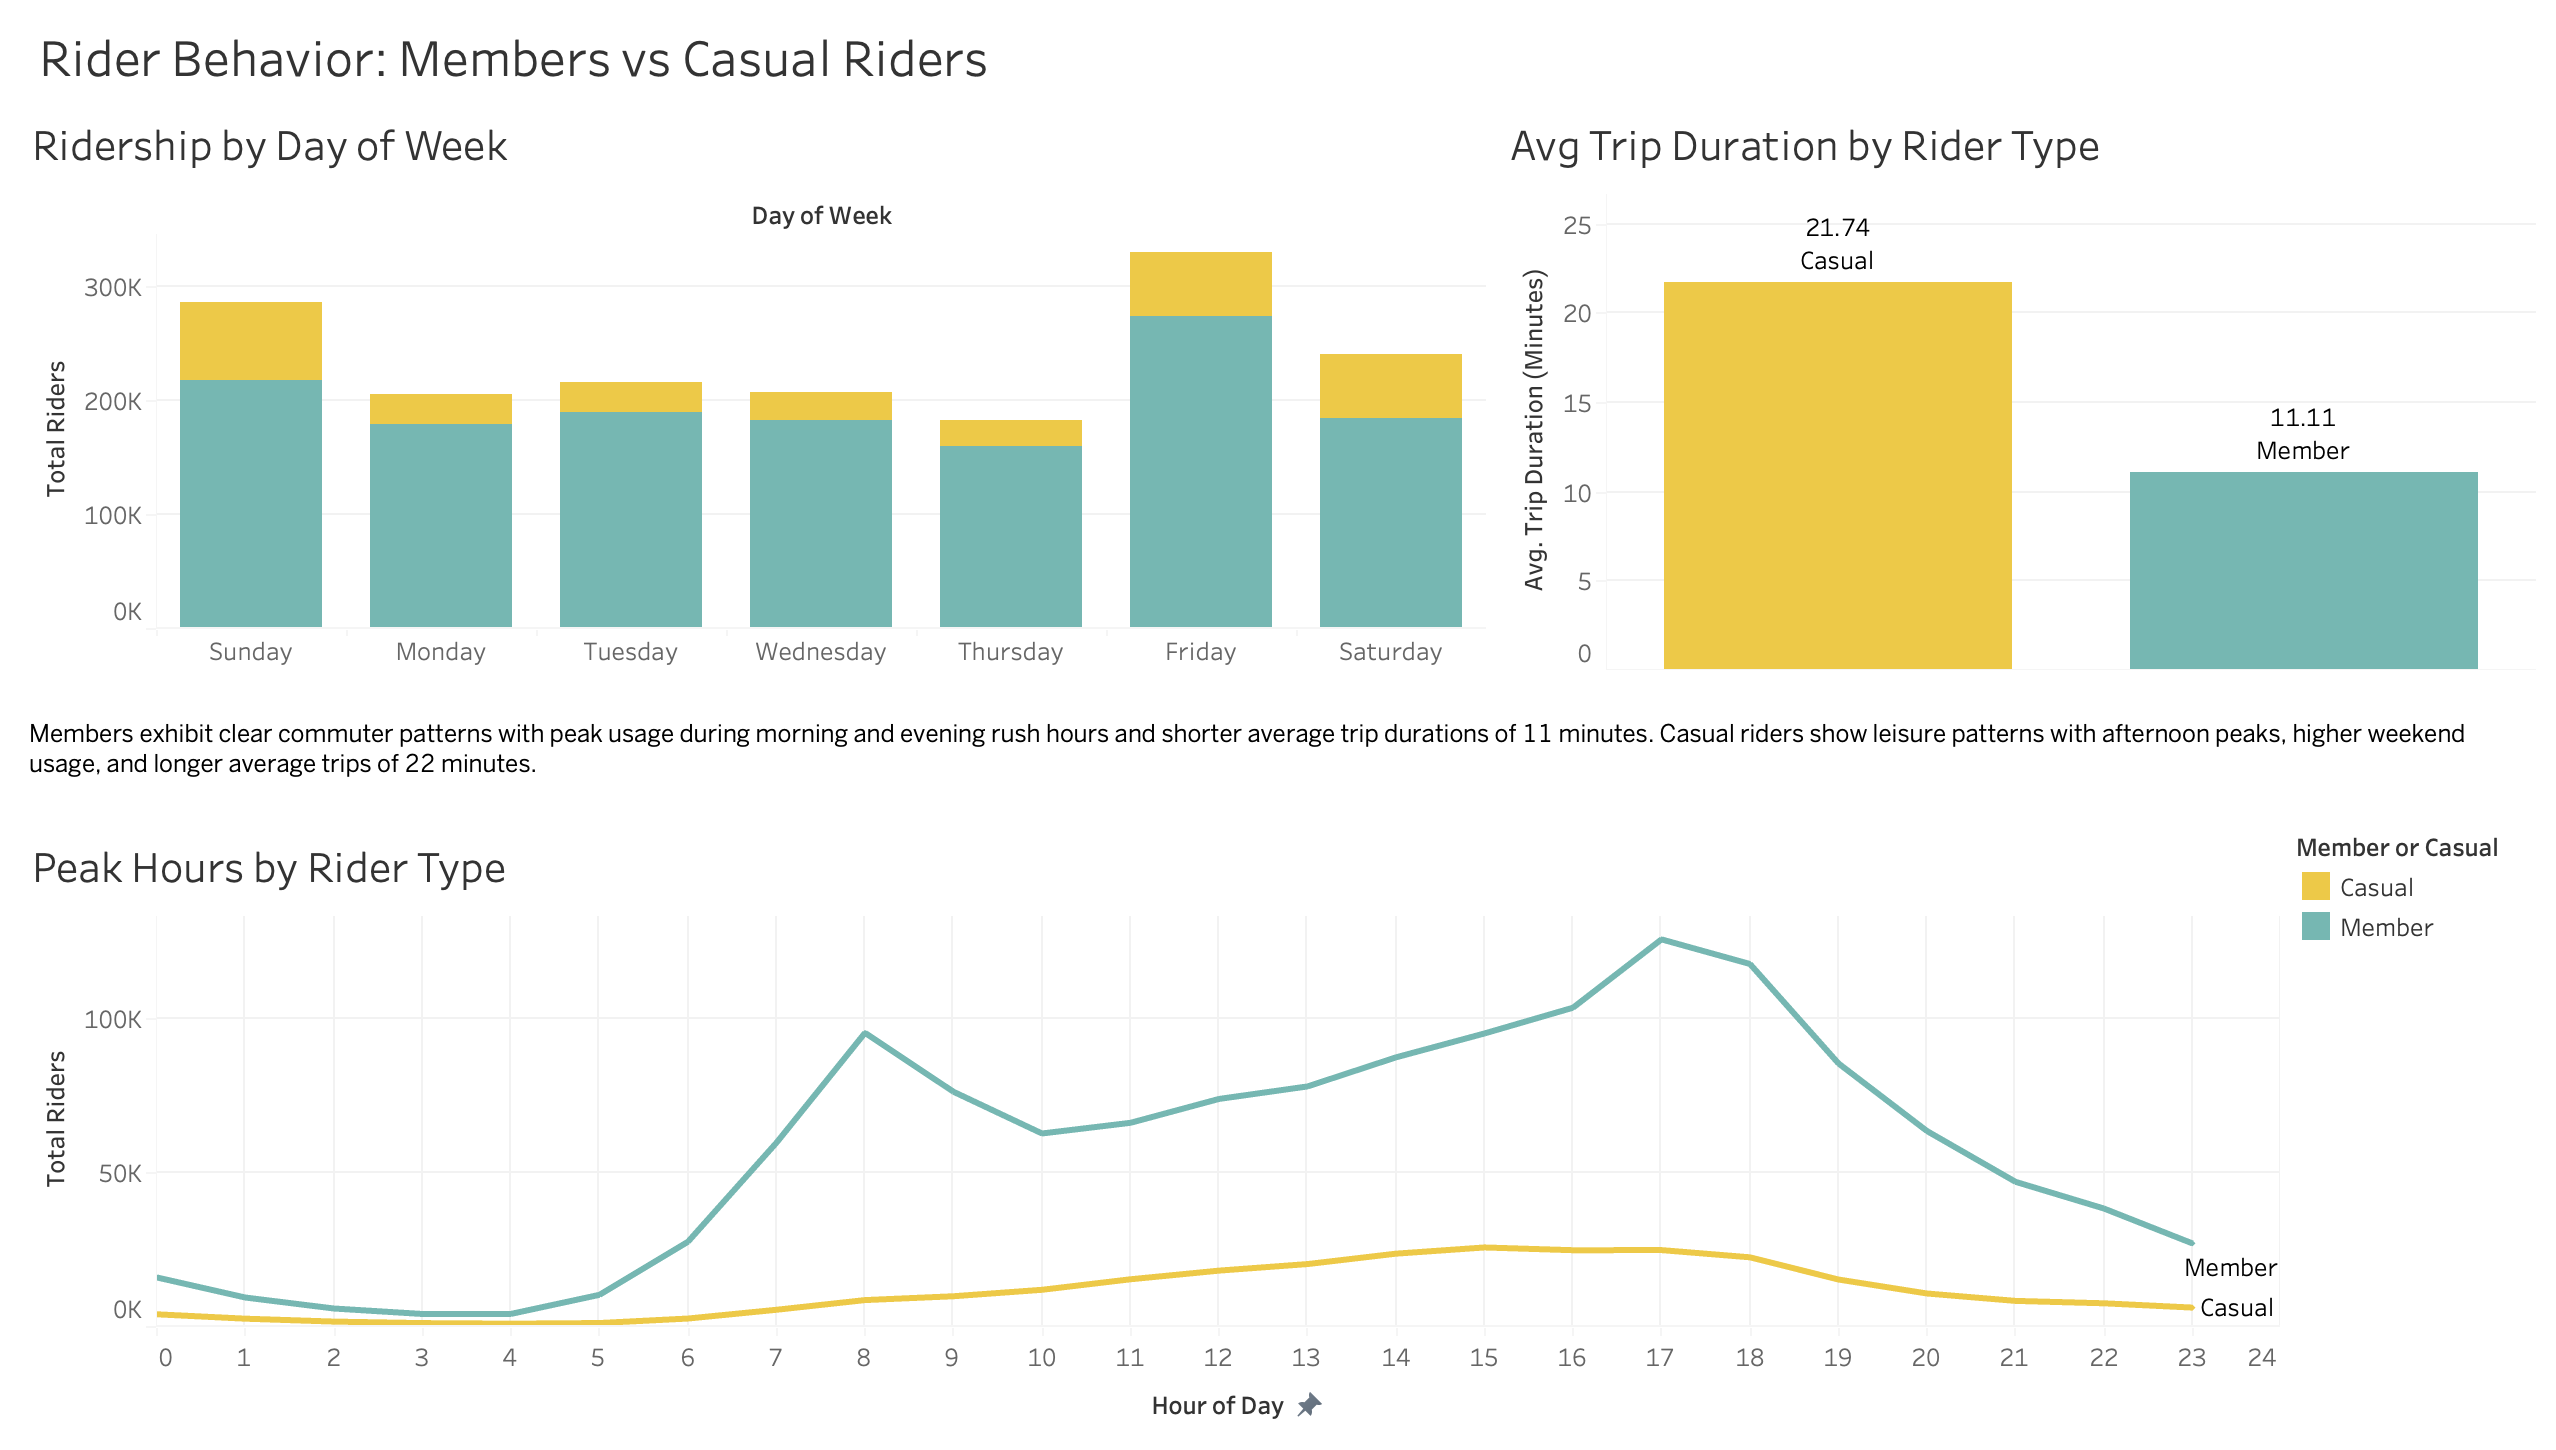

Layout of this report page (visuals, bound fields, positions):
{"tool":"tableau","page":{"name":" Rider Behavior: Members vs Casual Riders","canvas":[1000,1000],"units":"permille","ordinal":0},"visuals":[{"type":"title","box":[7.5,12,985,62.9]},{"type":"worksheet","title":"Ridership by Day of Week","mark":"Bar","rows":["ride_id"],"cols":["Calculation_5498684105844170755"],"box":[7.5,74.9,576.2,392.9]},{"type":"worksheet","title":"Avg Trip Duration by Rider Type","mark":"Automatic","rows":["Calculation_5498684105843142657"],"cols":["member_casual"],"box":[583.7,74.9,408.8,392.9]},{"type":"text","box":[7.5,467.8,985,97.5]},{"type":"worksheet","title":"Peak Hours by Rider Type","mark":"Automatic","rows":["ride_id"],"cols":["Calculation_5498684105843970050"],"box":[7.5,565.2,885.2,422.8]},{"type":"legend","title":"Peak Hours by Rider Type","param":"[federated.17jq1490oddnmz11a9hni1dhv889].[none:member_casual:nk]","box":[892.7,565.2,99.8,422.8]}]}

Visuals, with their boxes on the dashboard's canvas, which has no fixed pixel size, in thousandths of its width and height (x1, y1, x2, y2). These are canvas units, not pixel positions in the 2556x1450 screenshot, which may show the page scaled, cropped or inside an application window:
title: {"left": 8, "top": 12, "right": 992, "bottom": 75}
"Ridership by Day of Week" worksheet (Bar marks): {"left": 8, "top": 75, "right": 584, "bottom": 468}
"Avg Trip Duration by Rider Type" worksheet: {"left": 584, "top": 75, "right": 992, "bottom": 468}
text: {"left": 8, "top": 468, "right": 992, "bottom": 565}
"Peak Hours by Rider Type" worksheet: {"left": 8, "top": 565, "right": 893, "bottom": 988}
"Peak Hours by Rider Type" legend: {"left": 893, "top": 565, "right": 992, "bottom": 988}
